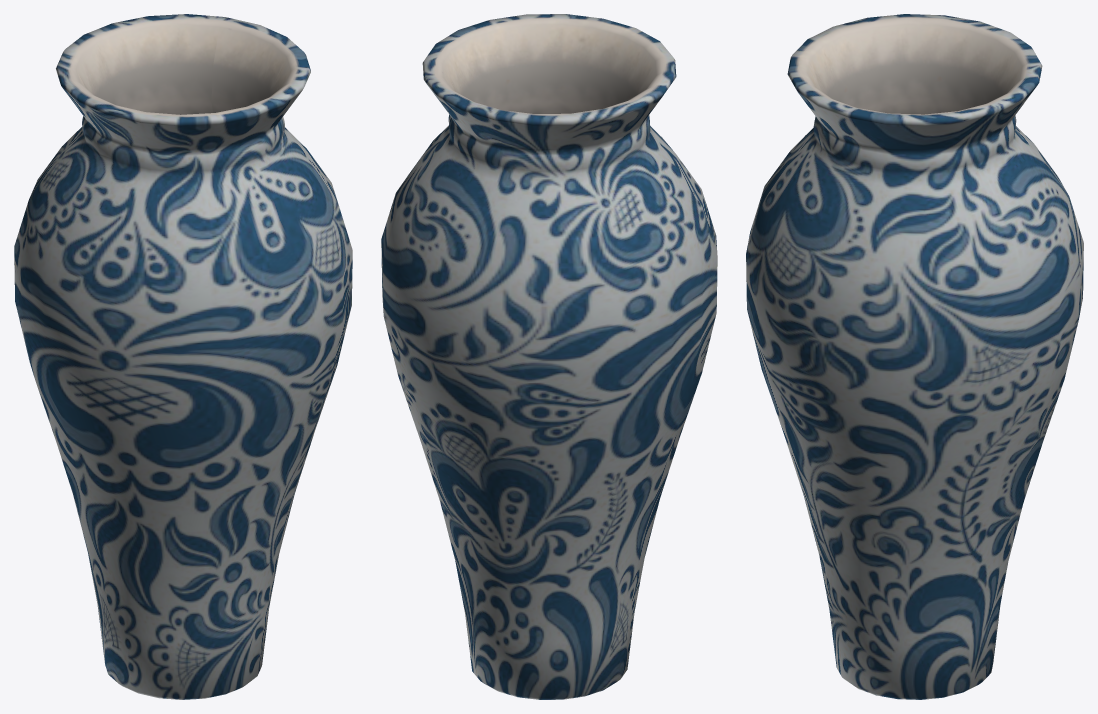
The model's file is SM_Vase1.glb.
The picture shows the model from 3 angles, left to right: view 1: azimuth 30°, elevation 25°; view 2: azimuth 150°, elevation 25°; view 3: azimuth 270°, elevation 25°; orthographic projection.
Visible parts, largest first — view 1: SM_Vase1_LOD0; view 2: SM_Vase1_LOD0; view 3: SM_Vase1_LOD0.
Boxes of the visible parts, bbox=[...] form: SM_Vase1_LOD0: bbox=[14, 14, 352, 699]; SM_Vase1_LOD0: bbox=[381, 14, 717, 699]; SM_Vase1_LOD0: bbox=[746, 14, 1083, 699].
Bounding box in the file's own units: 0.3125 × 0.6145 × 0.3126.
1 material, 1 textured.
